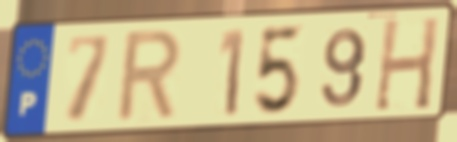1: (217, 25, 248, 119)
5: (250, 23, 308, 117)
7: (64, 31, 112, 127)
9: (318, 24, 369, 109)
H: (371, 14, 442, 114)
R: (112, 26, 186, 127)
